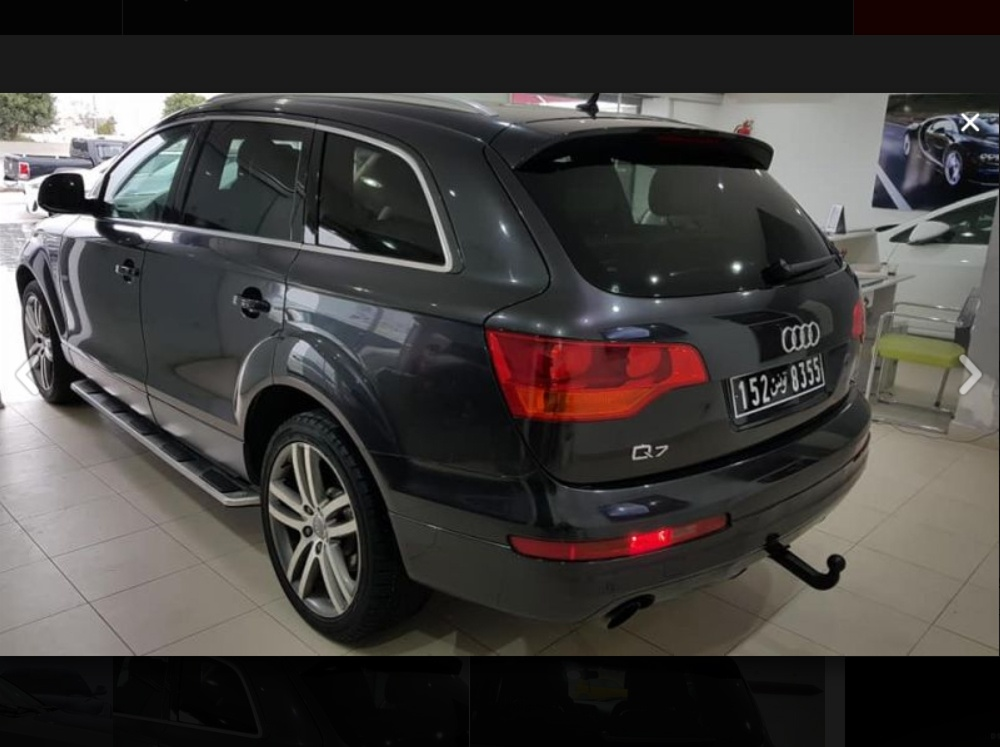LP: (726, 349, 846, 419)
